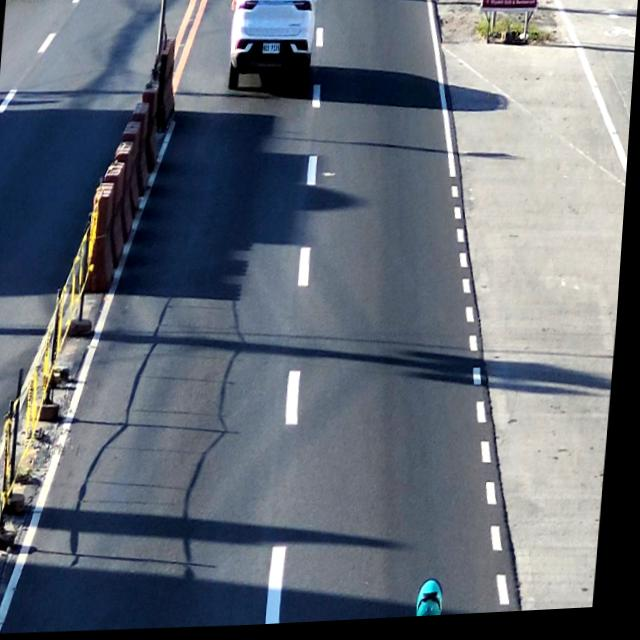Car: (224, 0, 321, 91)
License-Plate: (260, 43, 282, 59)
